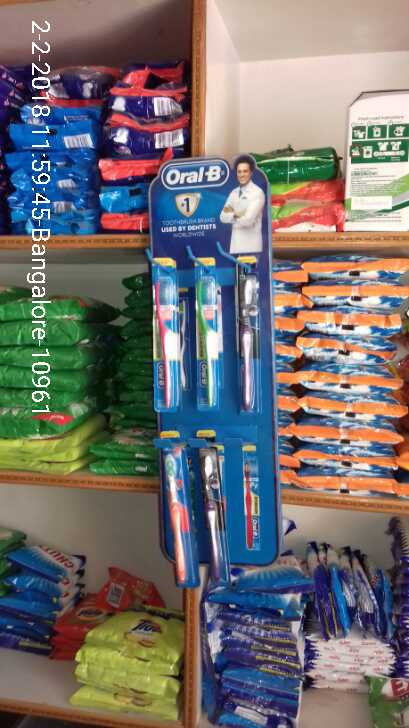oralb: (159, 432, 197, 588), (147, 257, 179, 411), (199, 447, 229, 580), (196, 258, 221, 412), (235, 255, 259, 411)
